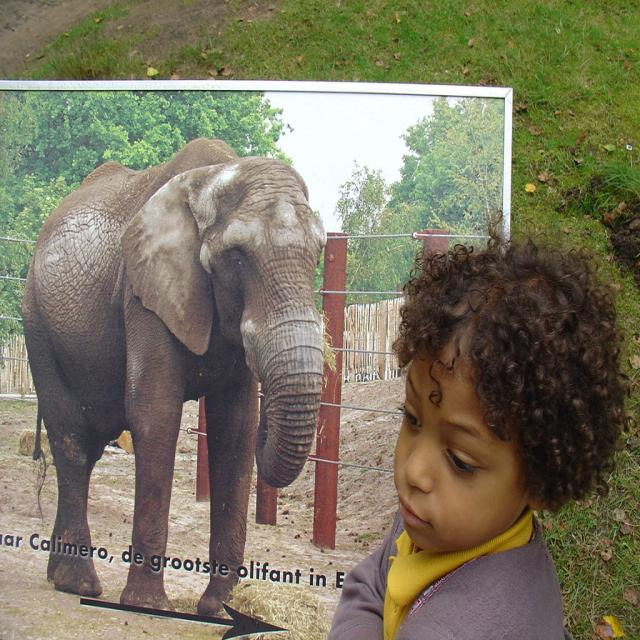elephant: (20, 132, 324, 620)
